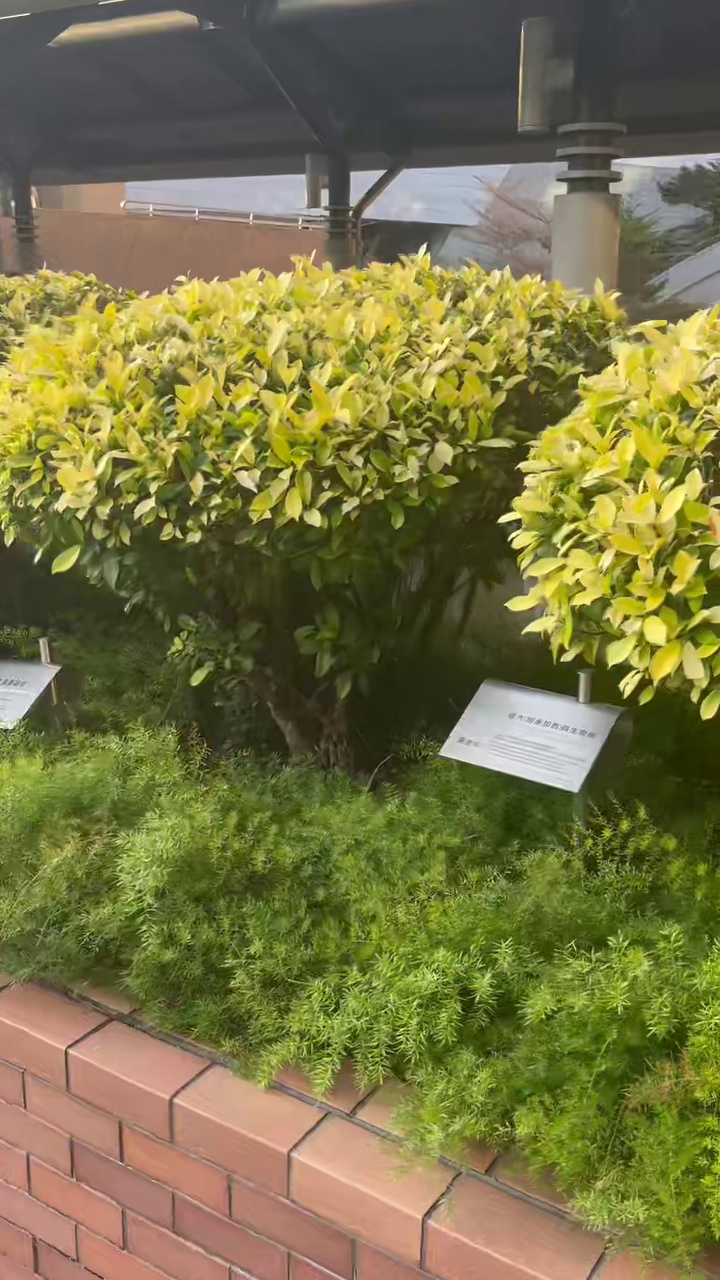Golden-leaves Fig: (0, 255, 624, 768)
